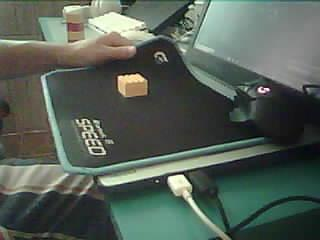lego: (116, 73, 148, 98), (65, 7, 86, 42)
